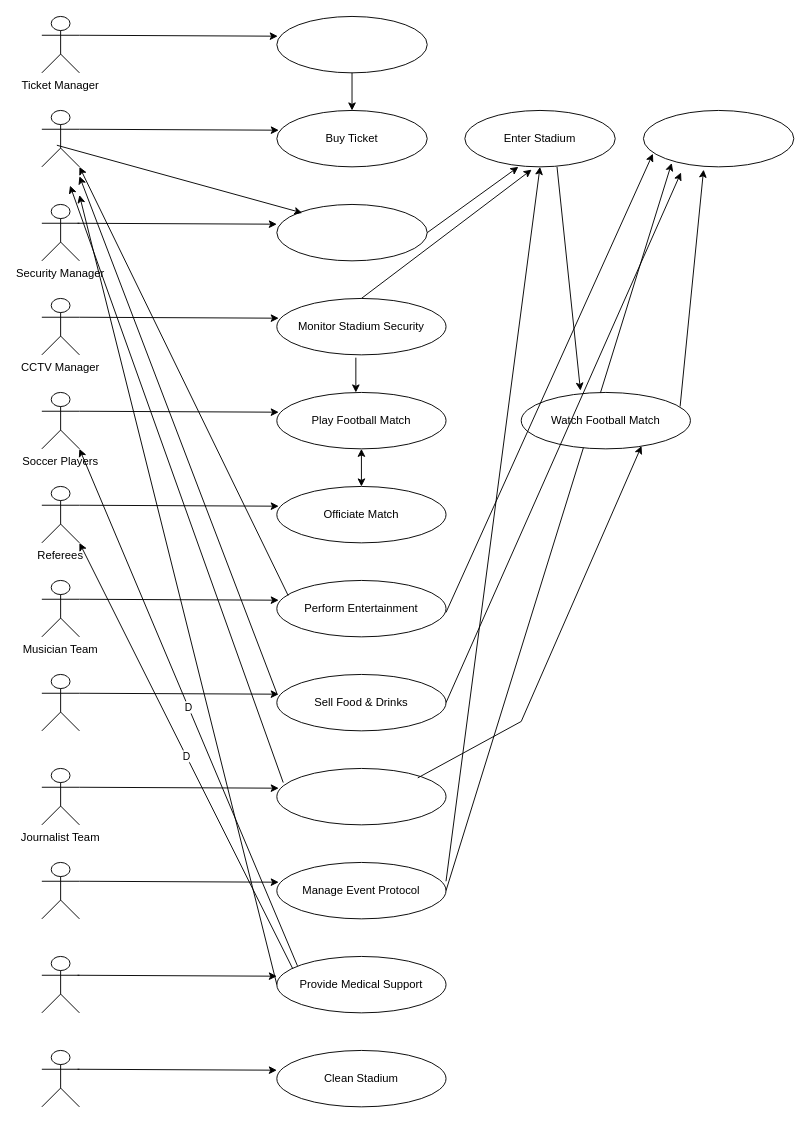
The diagram is 810 pixels wide and 1143 high, and some of its shapes have lost their labels. Here are the shapes that lost their labels. From the top down, the centre of each, then its label:
the point at 351,44: Manage Tickets
the point at 60,138: Fans
the point at 718,138: Exit Stadium
the point at 351,232: Validate Ticket
the point at 60,702: Vendors
the point at 361,796: Cover & Broadcast Match
the point at 60,890: Protocol Team
the point at 60,984: Medical Team
the point at 60,1078: Cleaners
